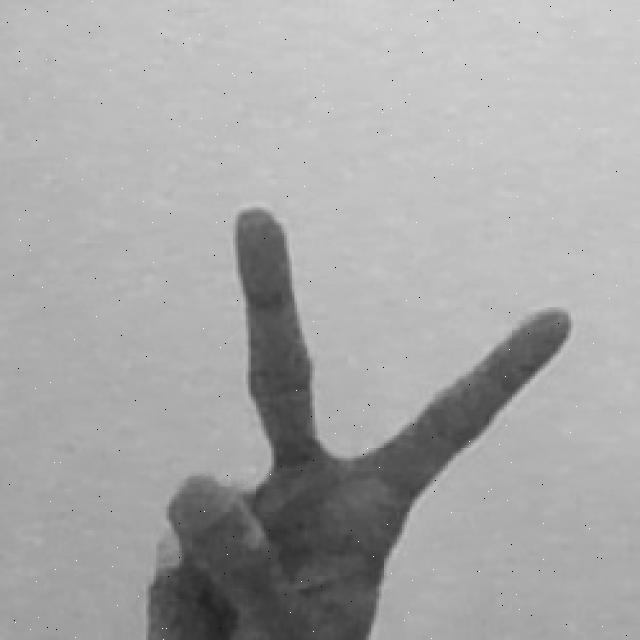V: (131, 197, 578, 640)
